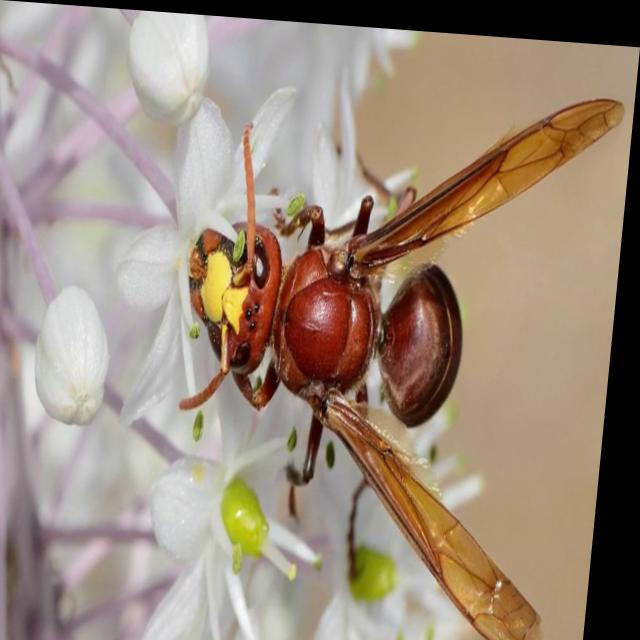Vespa Orientalis: (142, 39, 638, 639)
